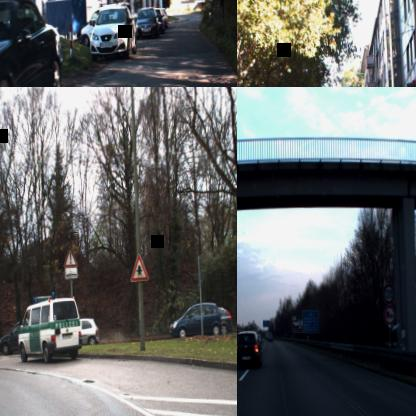DANGER: (62, 243, 77, 267)
no overtaking: (382, 304, 396, 326)
priority at next intersection: (130, 252, 148, 282)
speed limit 120: (382, 282, 394, 303)
